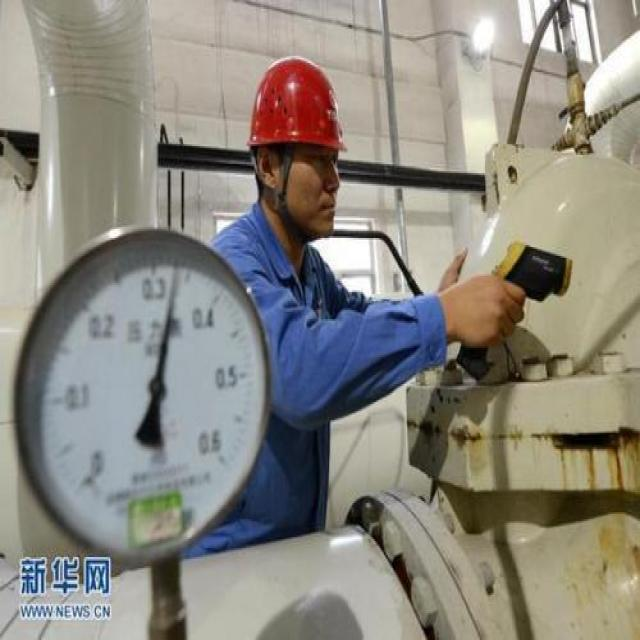hat: (241, 45, 356, 247)
